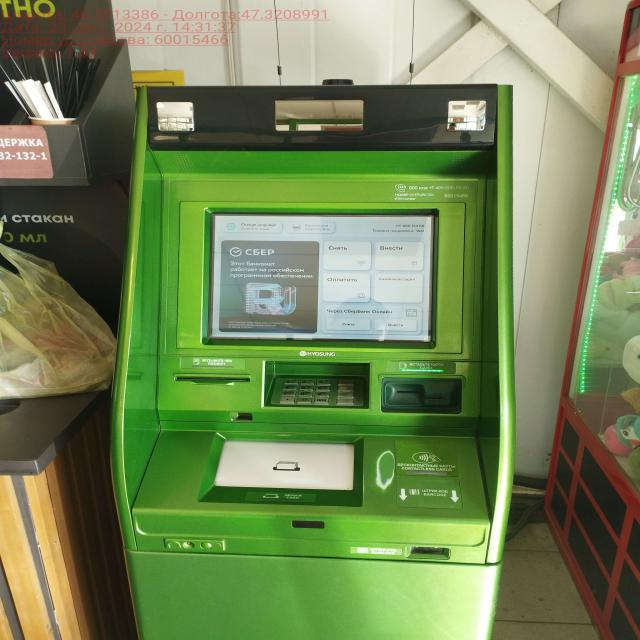bank: (114, 81, 512, 640)
